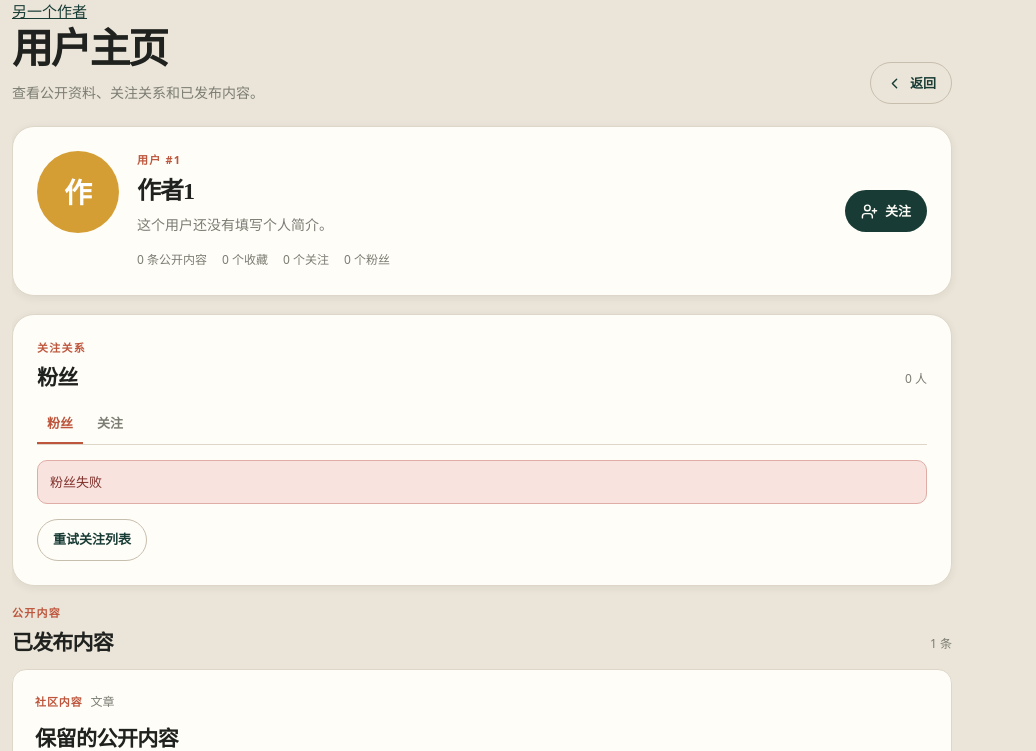
Test: 公开主页的分区状态 › retries only followers while retaining the profile and content
Expected: the heading "作者1" is shown, [137, 178, 194, 204]
Step 1. Click the button "重试关注列表" → click(92, 540), box [37, 519, 147, 561]
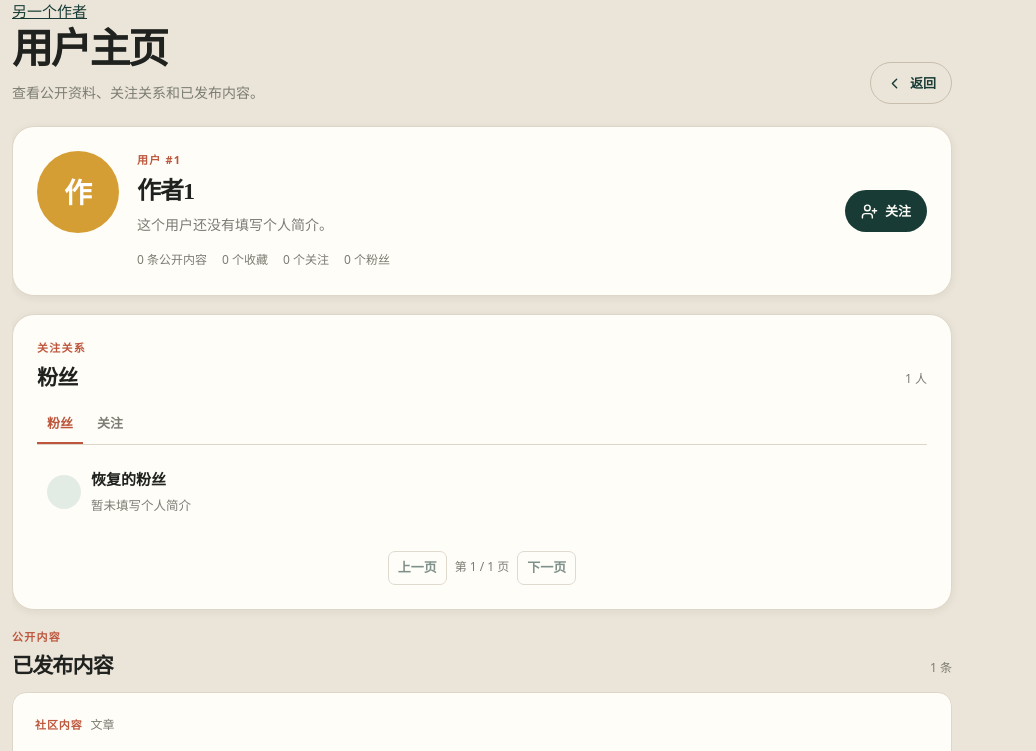
Expected: the heading "作者1" is shown, [137, 178, 194, 204]
Now the text "恢复的粉丝" is shown, box [91, 472, 166, 488]
